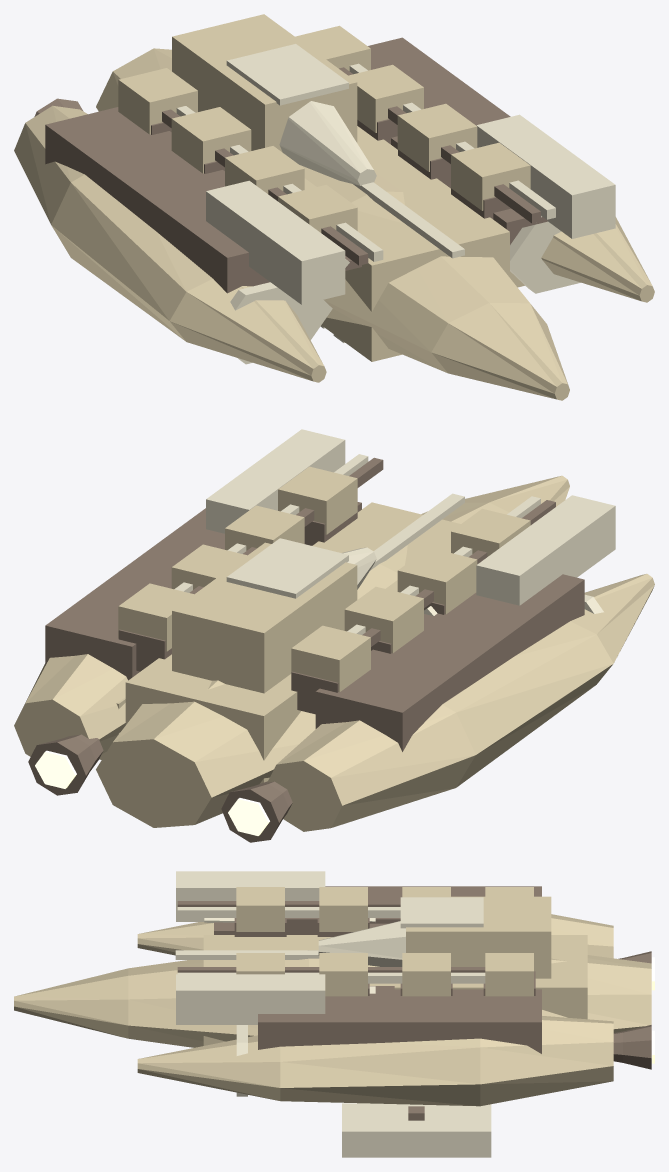
3 renders of one model, top to bottom at view 1: azimuth 30°, elevation 25°; view 2: azimuth 150°, elevation 25°; view 3: azimuth 270°, elevation 25°, orthographic. The views are drawn at different scales.
Bounding box in the file's own units: 15.52 × 6.87 × 24.71.
